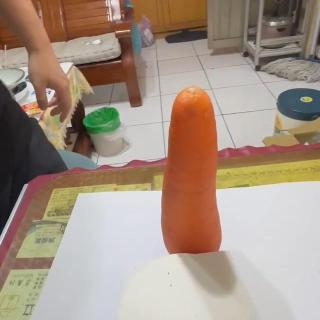carrot: (160, 85, 222, 254)
